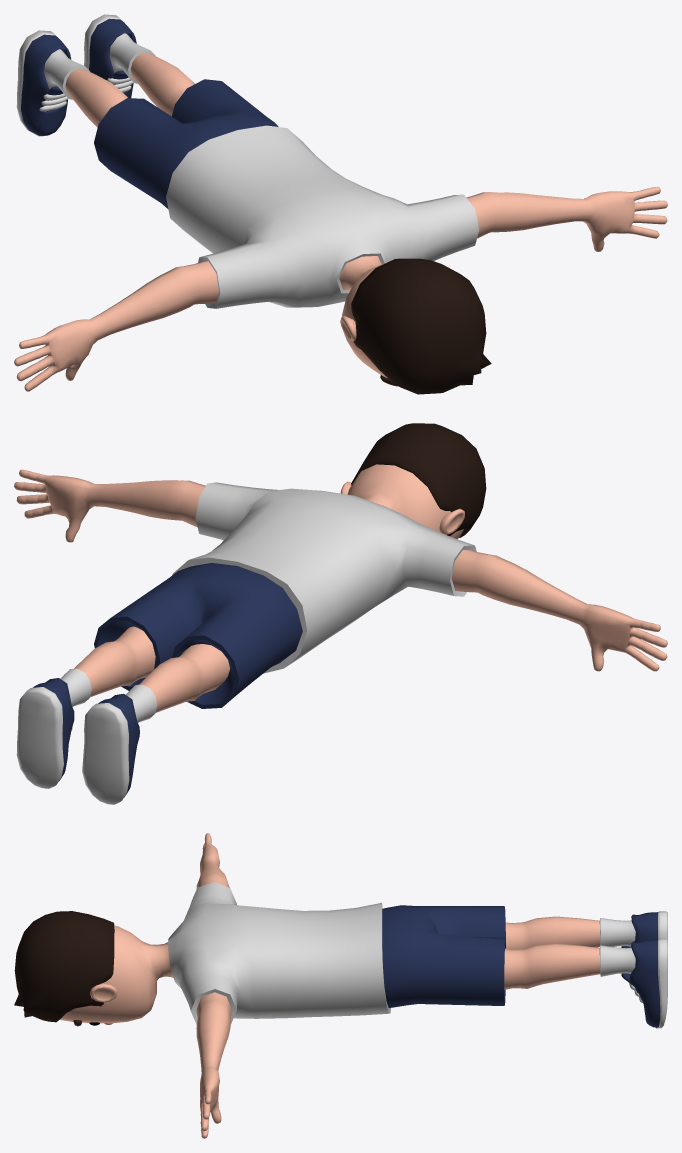
Rendered from MALE.glb.
3 views of the same model, one above another, from view 1: azimuth 30°, elevation 25°; view 2: azimuth 150°, elevation 25°; view 3: azimuth 270°, elevation 25° (orthographic). The views are drawn at different scales.
Parts seen in each view (by area): view 1: Male_tshirt, Male_body, Male_hair, Male_shorts, Male_shoes; view 2: Male_body, Male_tshirt, Male_shorts, Male_shoes, Male_hair; view 3: Male_tshirt, Male_body, Male_shorts, Male_hair, Male_shoes.
Part boxes in pixels (x1=…): Male_tshirt: x1=166, y1=125, x2=479, y2=308; Male_body: x1=14, y1=33, x2=667, y2=391; Male_hair: x1=351, y1=258, x2=491, y2=394; Male_shorts: x1=94, y1=79, x2=278, y2=208; Male_shoes: x1=16, y1=14, x2=136, y2=136; Male_body: x1=14, y1=464, x2=667, y2=722; Male_tshirt: x1=172, y1=482, x2=476, y2=673; Male_shorts: x1=94, y1=563, x2=302, y2=708; Male_shoes: x1=16, y1=678, x2=139, y2=804; Male_hair: x1=351, y1=423, x2=486, y2=537; Male_tshirt: x1=168, y1=882, x2=390, y2=1024; Male_body: x1=59, y1=833, x2=635, y2=1138; Male_shorts: x1=382, y1=905, x2=505, y2=1007; Male_hair: x1=14, y1=911, x2=114, y2=1022; Male_shoes: x1=621, y1=911, x2=667, y2=1028.
Size of the model in its own units: 160 by 30.1 by 163.
1 material, 1 textured.
